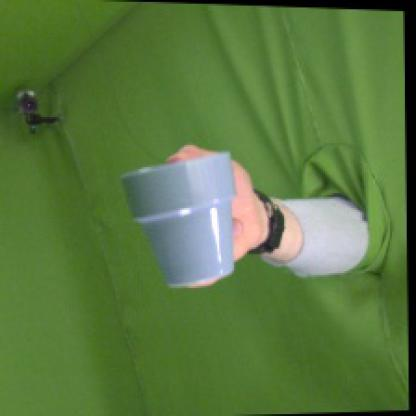Hand: (161, 145, 266, 288)
